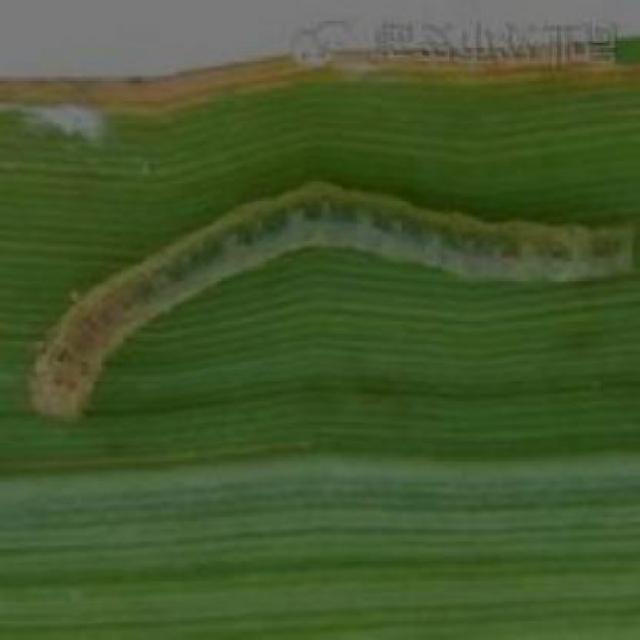leaf-folder: (34, 163, 640, 428)
